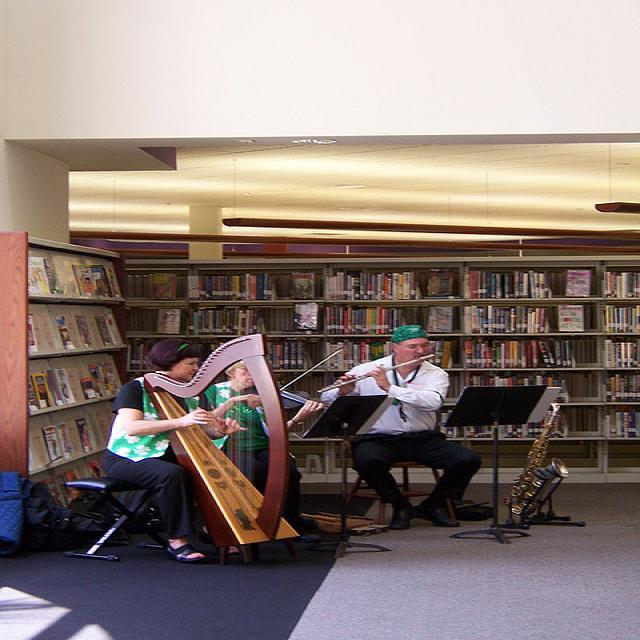harp: (138, 332, 302, 556)
